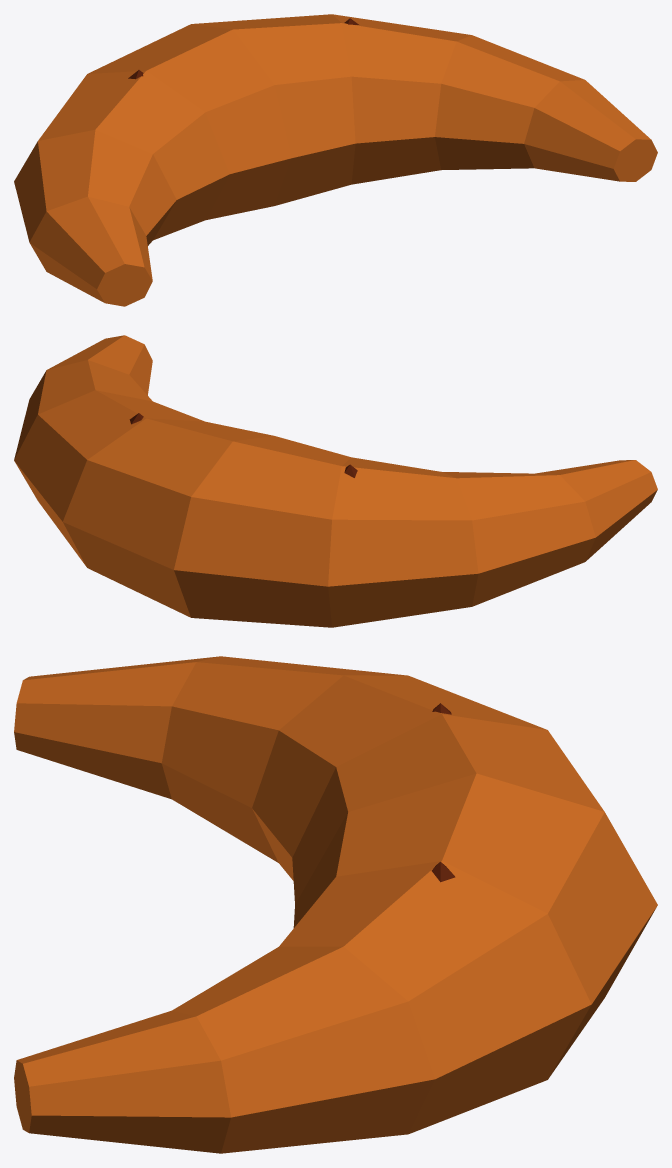
File: croissant.obj
3 renders of one model, top to bottom at view 1: azimuth 30°, elevation 25°; view 2: azimuth 150°, elevation 25°; view 3: azimuth 270°, elevation 25°, orthographic. The views are drawn at different scales.
Parts seen in each view (by area): view 1: croissant; view 2: croissant; view 3: croissant.
Part boxes in pixels (box(x1,y1,x2,y2)): croissant: box(14, 14, 657, 306); croissant: box(14, 335, 657, 627); croissant: box(14, 656, 657, 1153).
Size of the model in its own units: 0.1552 by 0.0448 by 0.0994.
